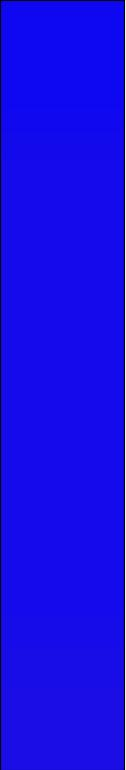safe: (2, 5, 120, 766)
